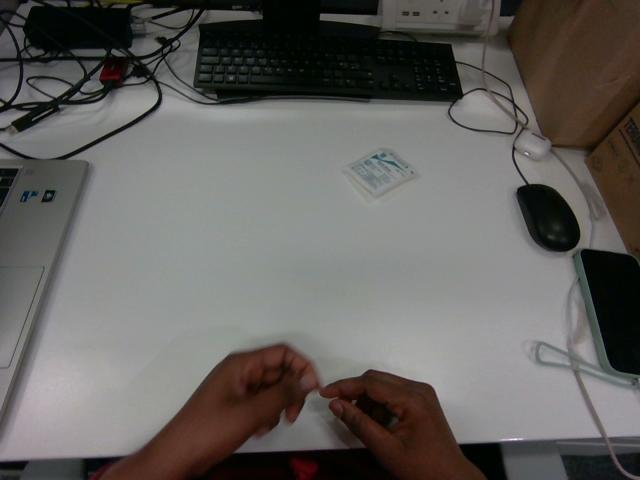gauze: (344, 149, 416, 198)
